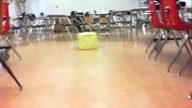cube: (77, 32, 97, 50)
